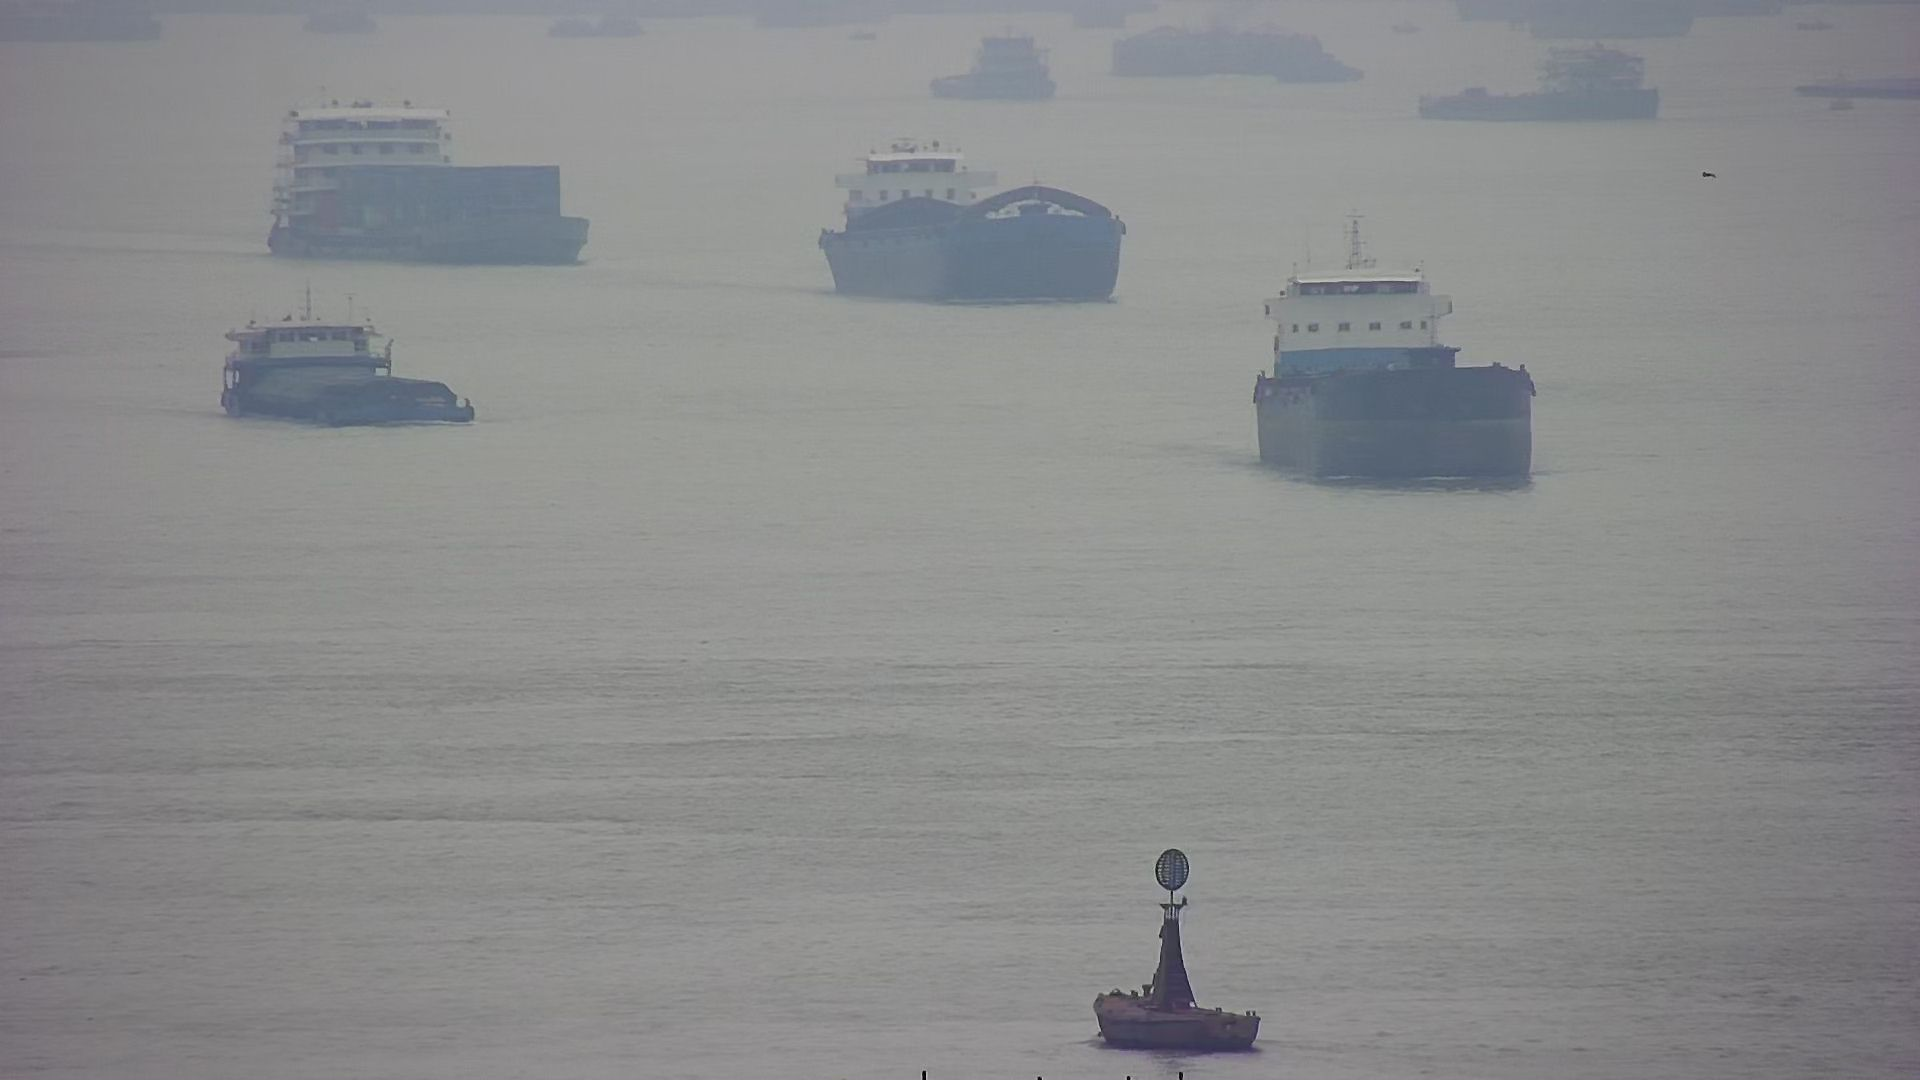boat: (1101, 841, 1259, 1059)
ship: (1261, 247, 1539, 483), (262, 84, 589, 266), (822, 133, 1127, 306), (218, 295, 472, 433)
